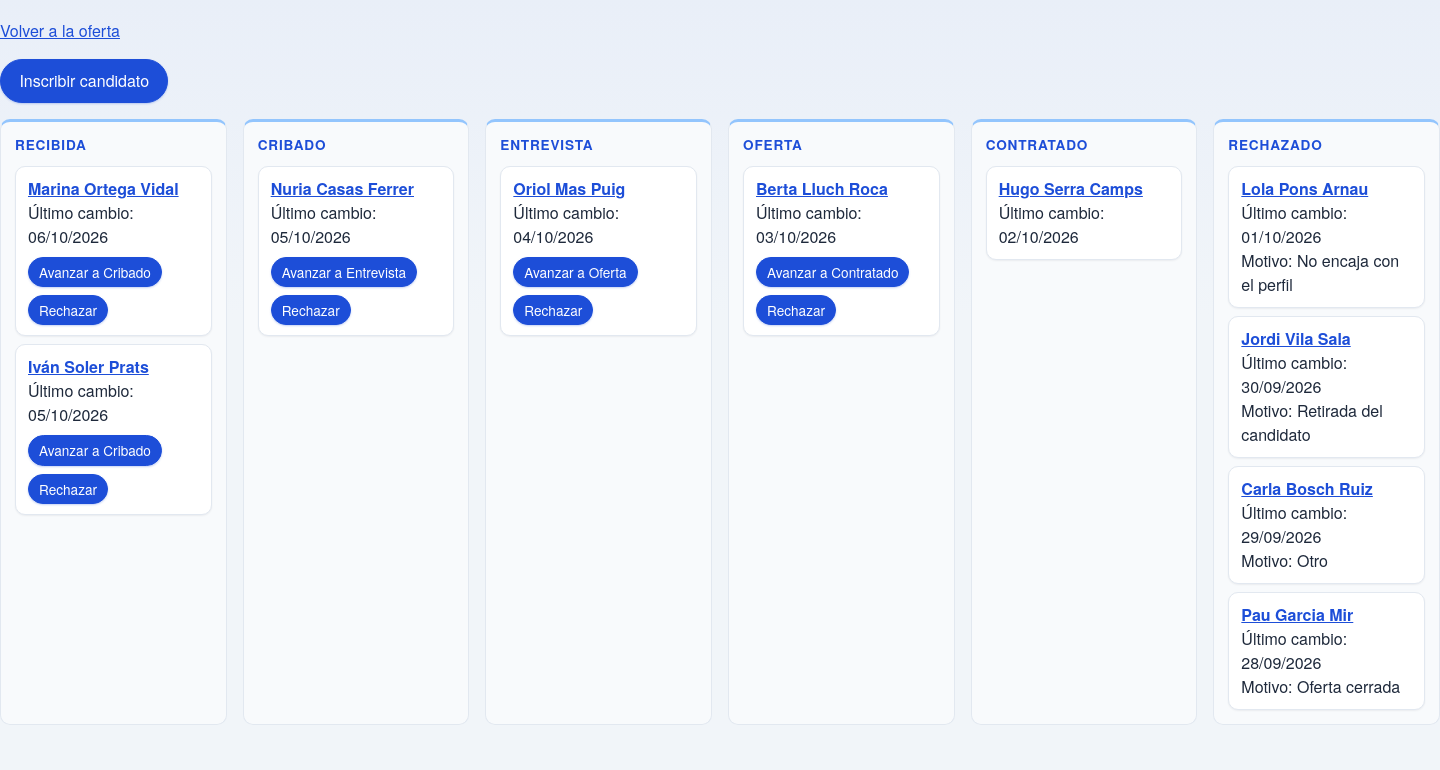
Test case: PipelineScreen: panel y búsqueda (RF-08) › Enter envía la búsqueda: GET /api/candidates?q=ana&pageSize=10
Click the button "Inscribir candidato": click(84, 81) [0,59,168,103]
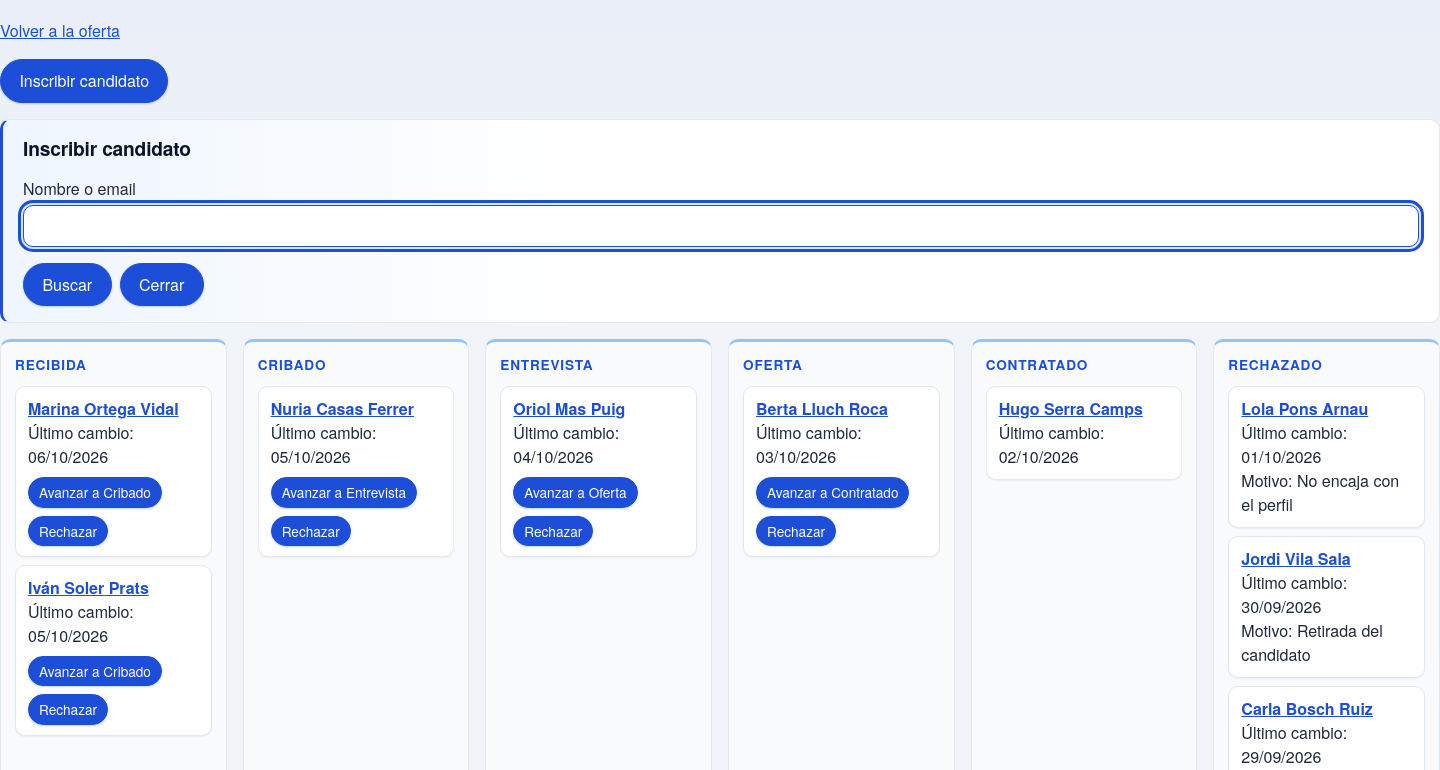
In the search field labelled "Nombre o email": (721, 226) [23,205,1419,247], type "  ana  "
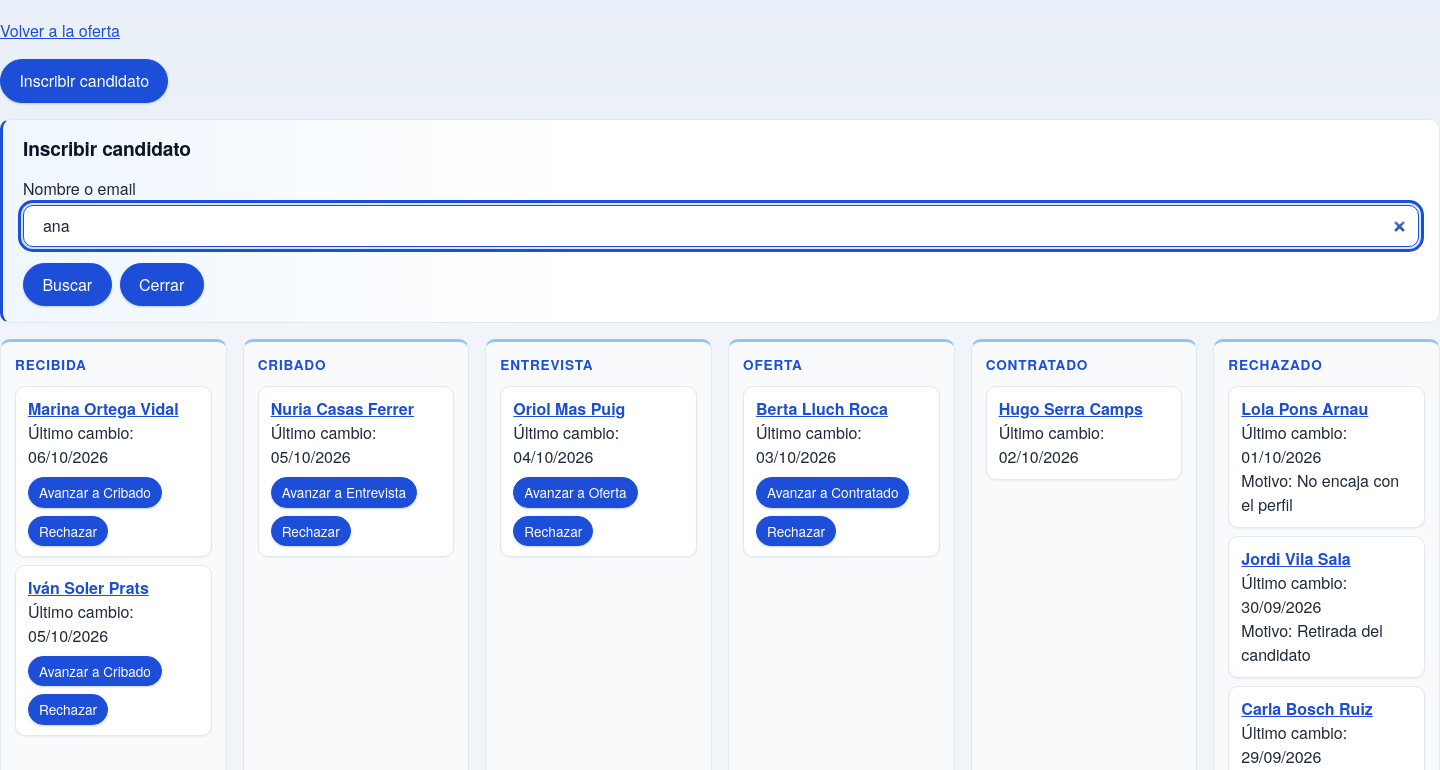
Submit the form, box [23,177,1419,306]
(page scrolled)
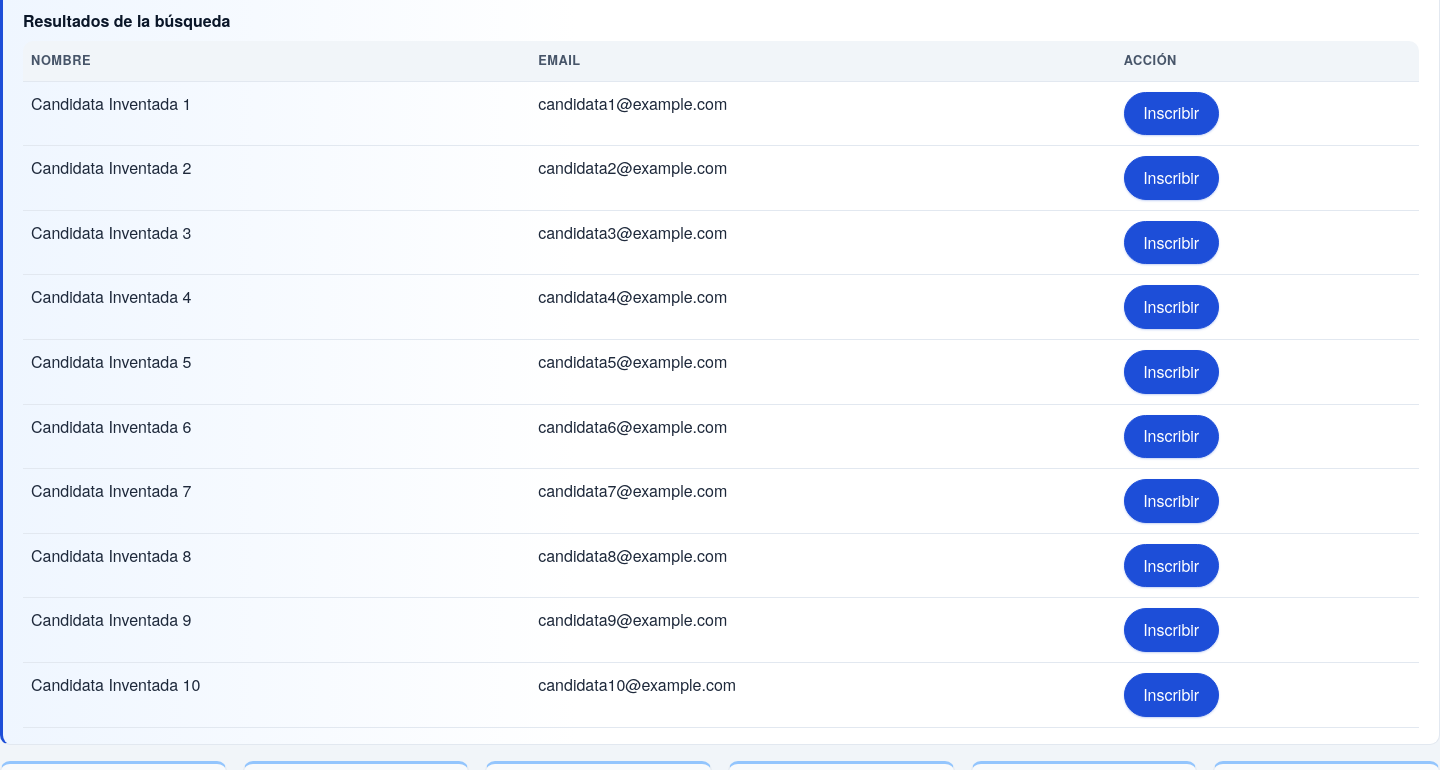
Expected: the table "Resultados de la búsqueda" is shown
